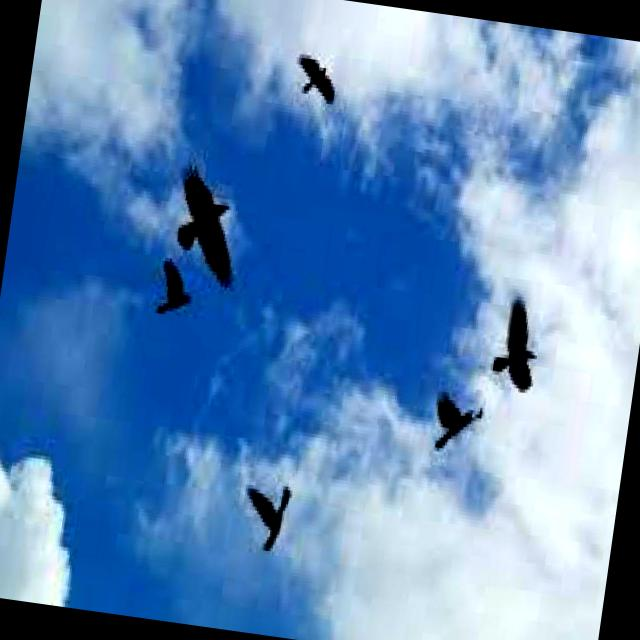bird: (150, 145, 280, 303), (132, 247, 212, 344), (482, 290, 552, 396), (233, 469, 310, 561), (414, 382, 491, 462), (284, 46, 344, 108)
